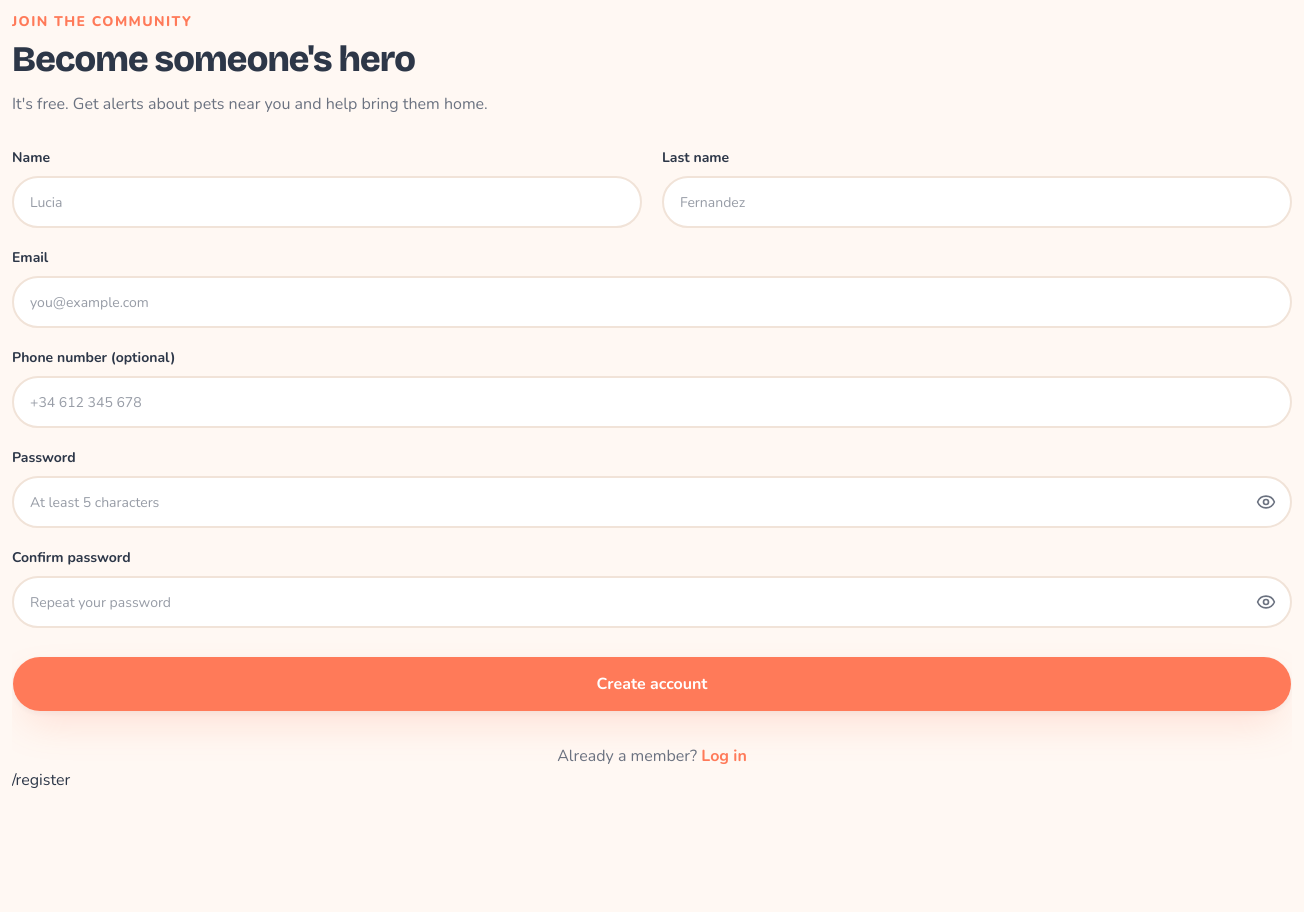
RegisterForm › does not apply a duplicate error to an email edited while the request is pending
The width and height of the screenshot is (1304, 912).
In the field labelled "Name": [327, 202] box [12, 176, 642, 228], type "Adriana"
In the field labelled "Last name": [977, 202] box [662, 176, 1292, 228], type "Elias"
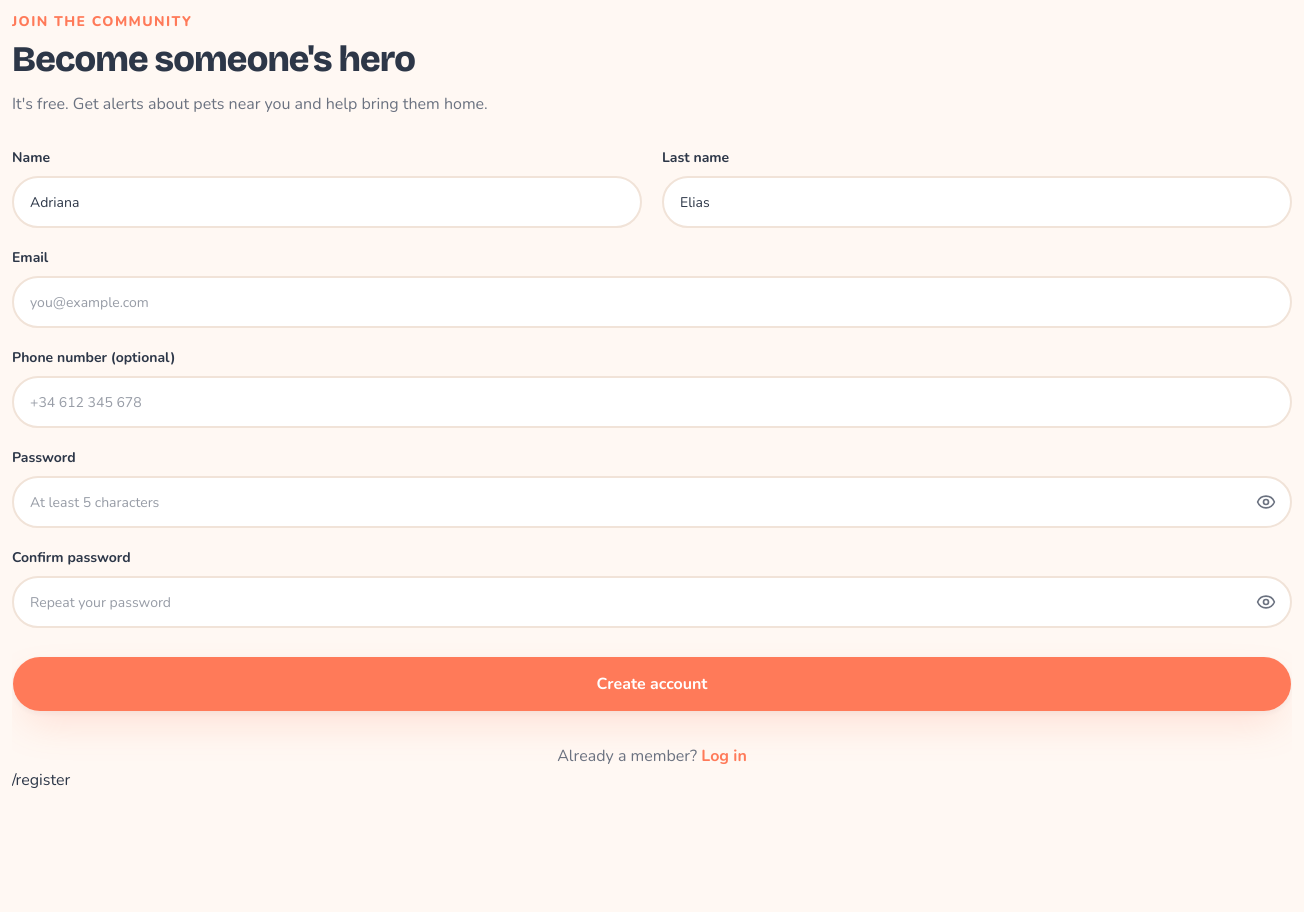
In the field labelled "Email": [652, 302] box [12, 276, 1292, 328], type "adriana@example.com"
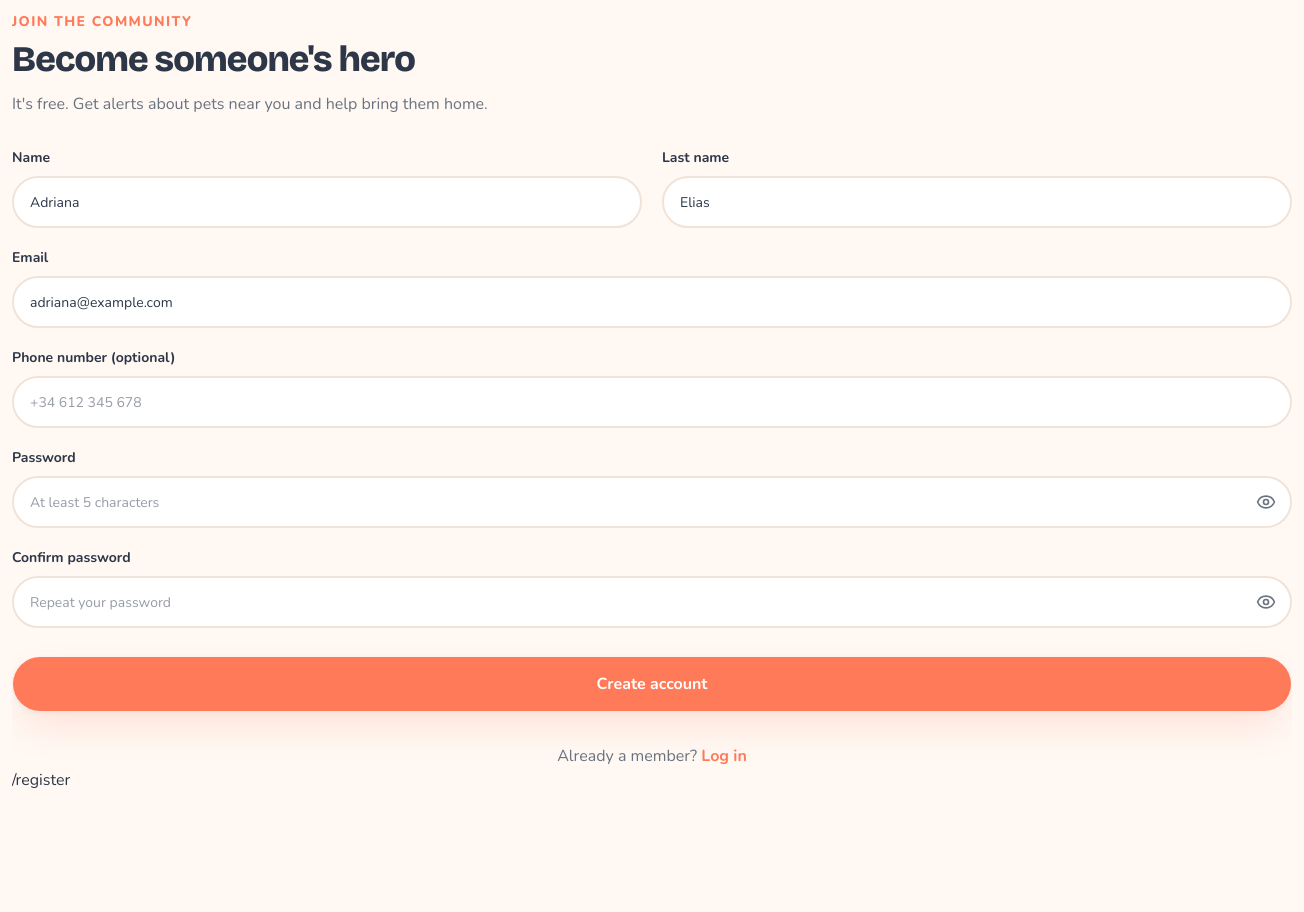
In the password field named "password": [652, 502] box [12, 476, 1292, 528], type "Valid1"
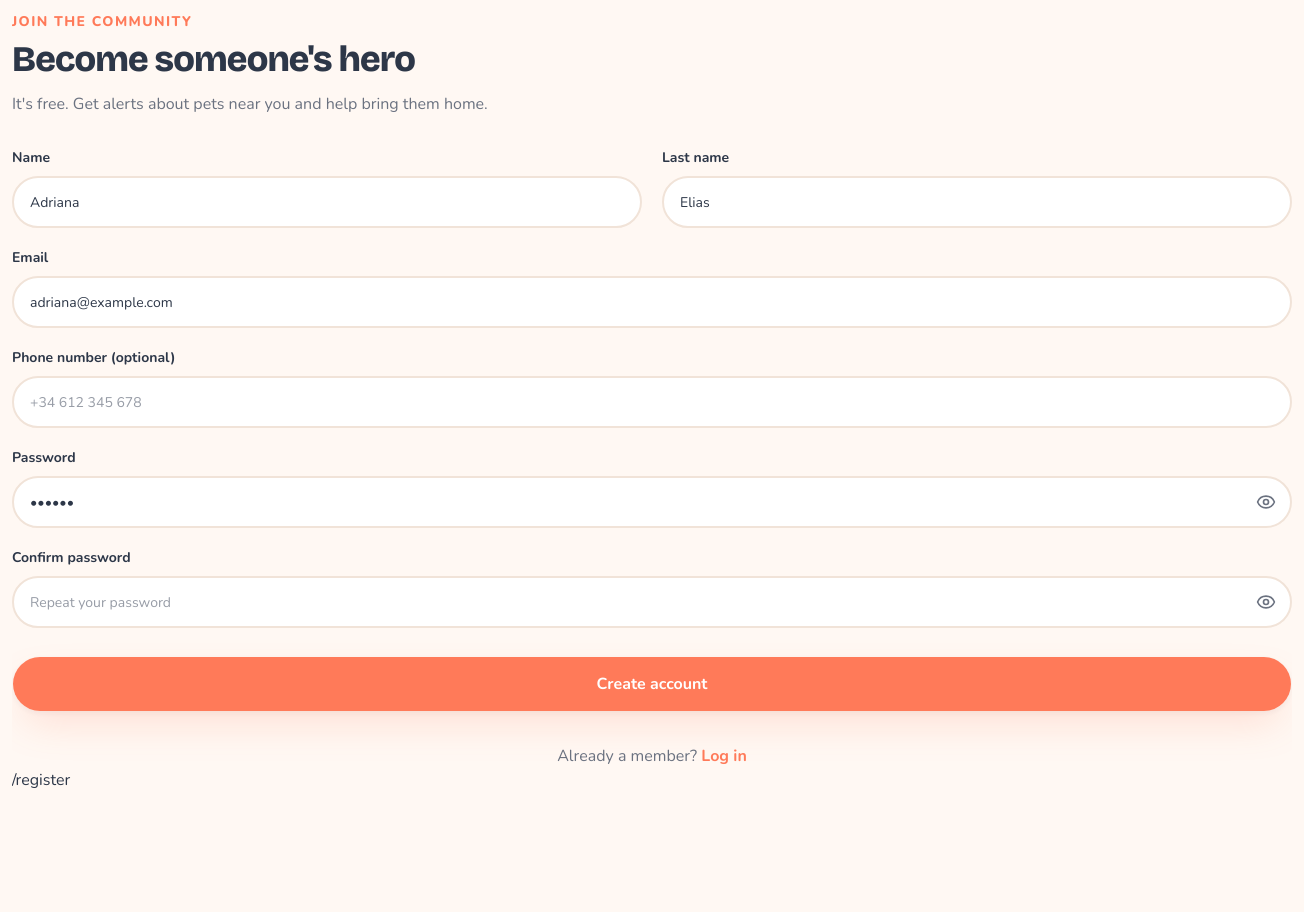
In the password field named "confirmPassword": [652, 602] box [12, 576, 1292, 628], type "Valid1"
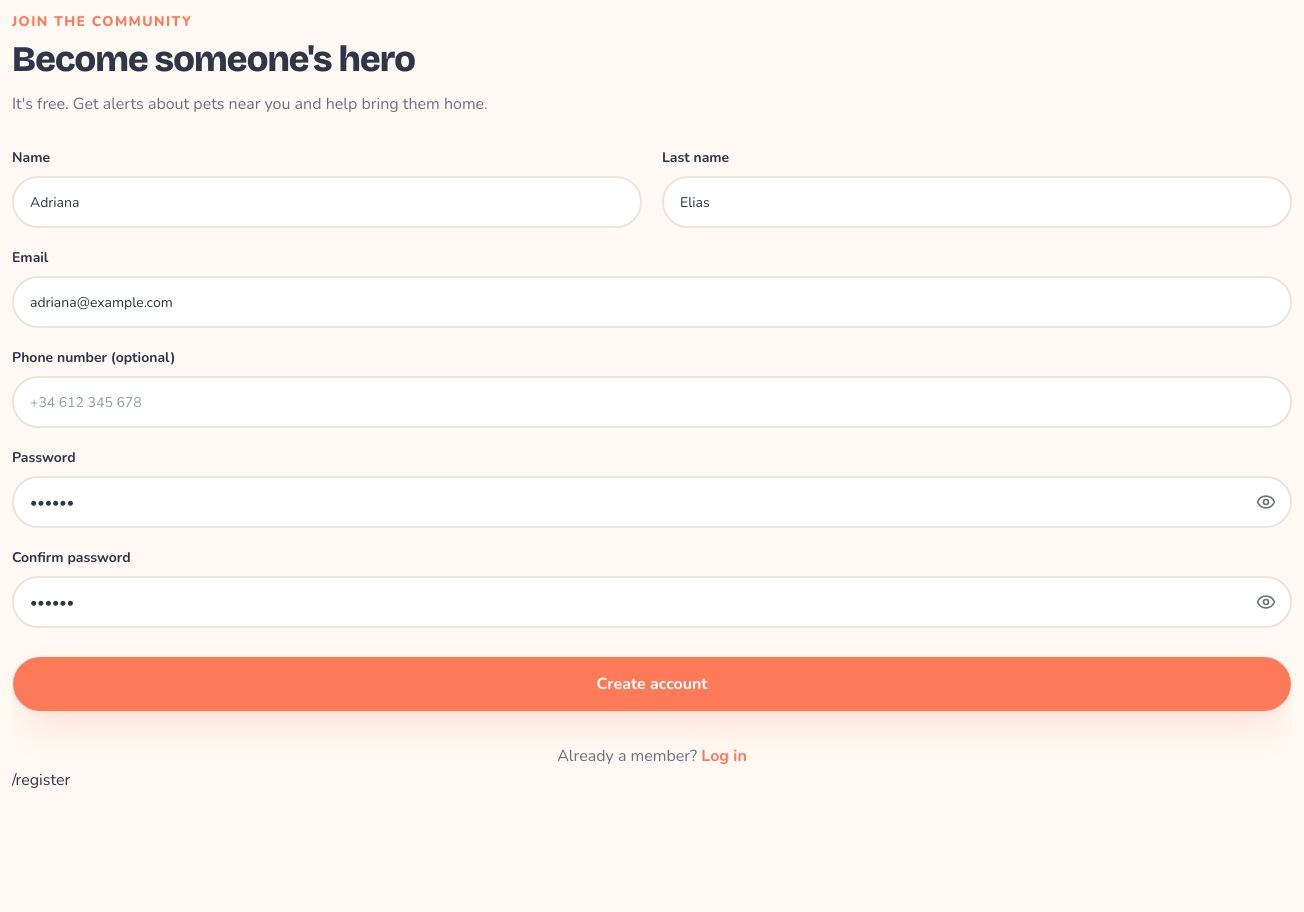
Submit the form
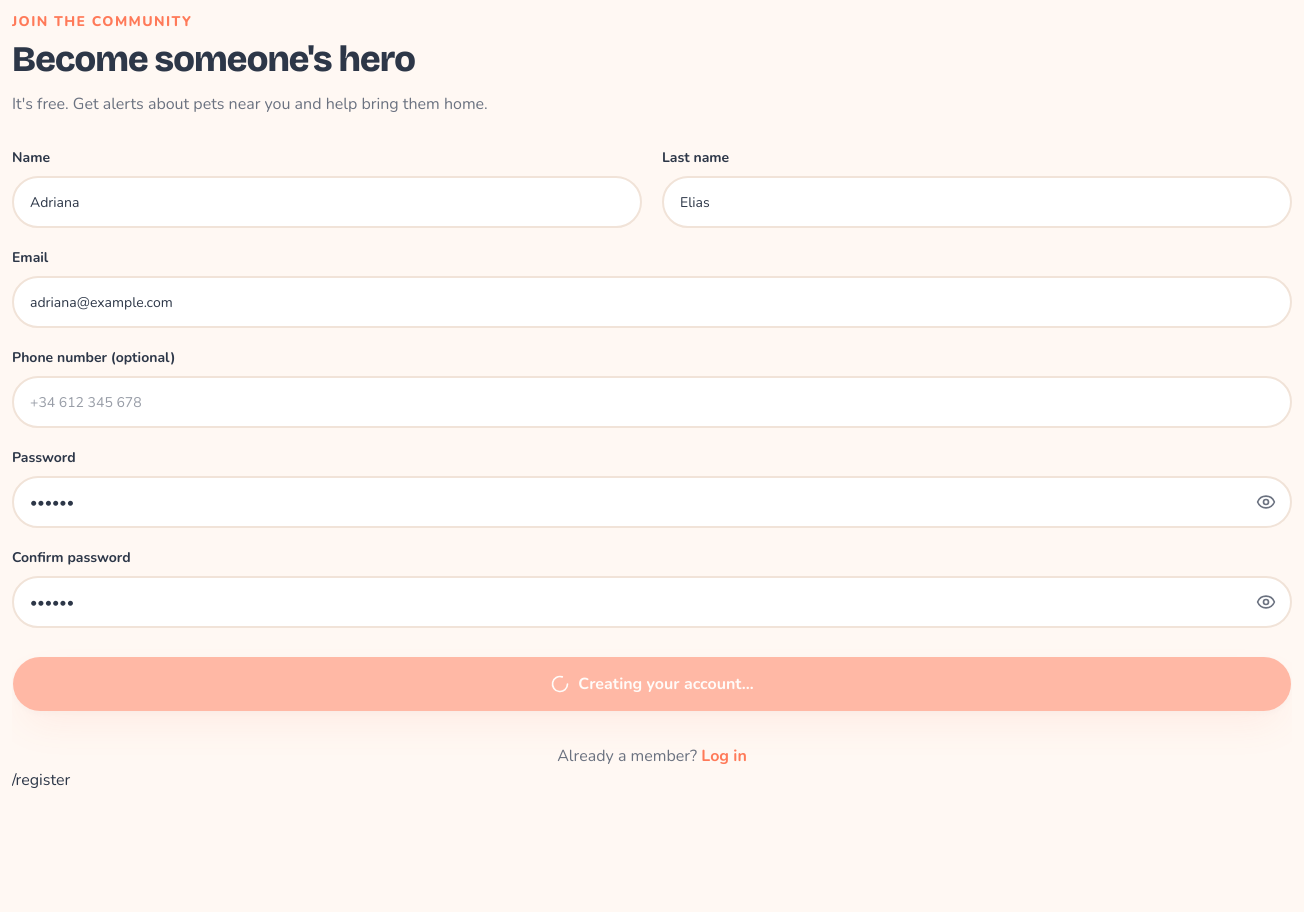
Replace the text in the field labelled "Email" with "new@example.com": [652, 302] box [12, 276, 1292, 328]
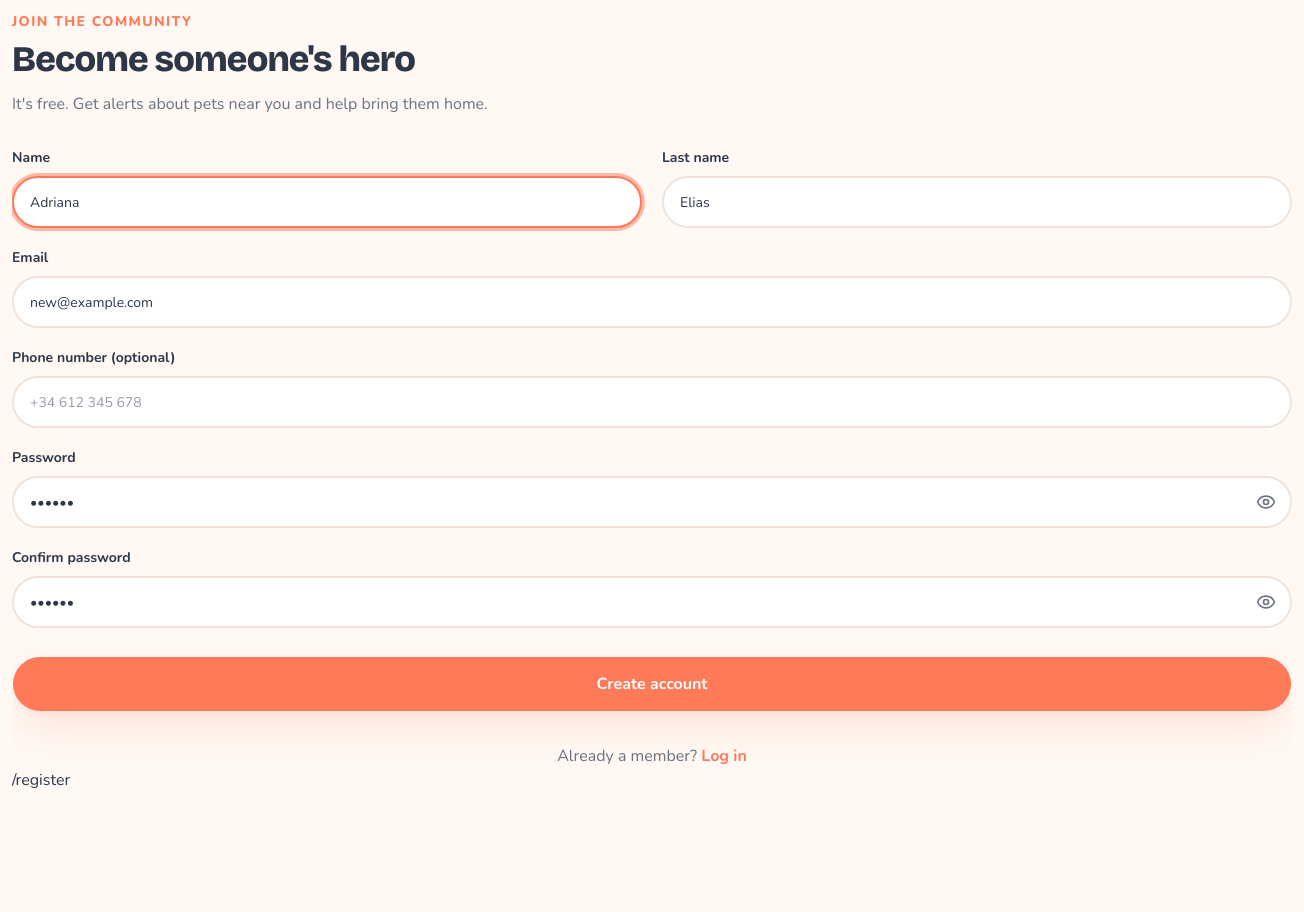
expect the button "Create account" is enabled: met, box [12, 656, 1292, 712]
